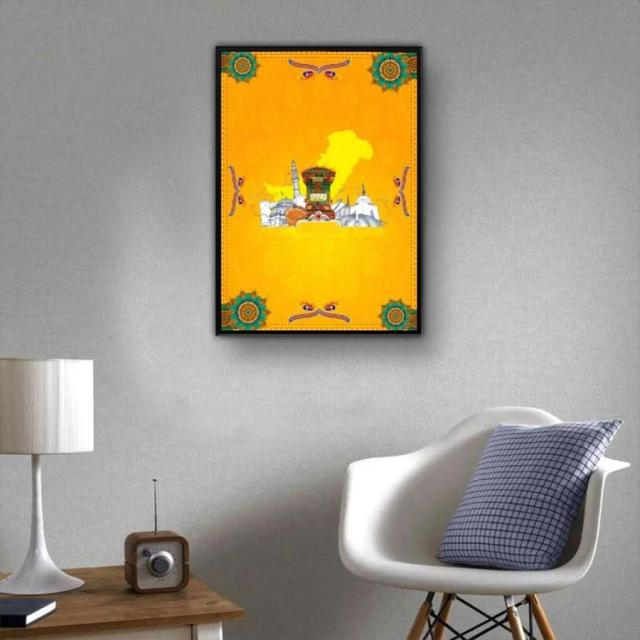painting: (217, 45, 423, 335)
